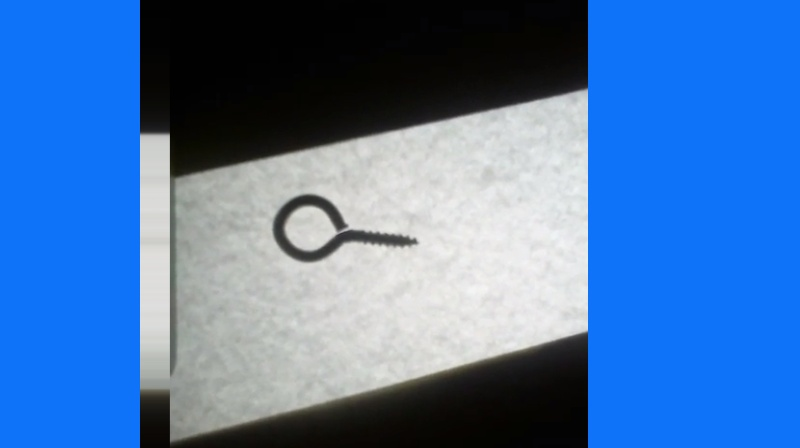O001: (268, 190, 420, 265)
